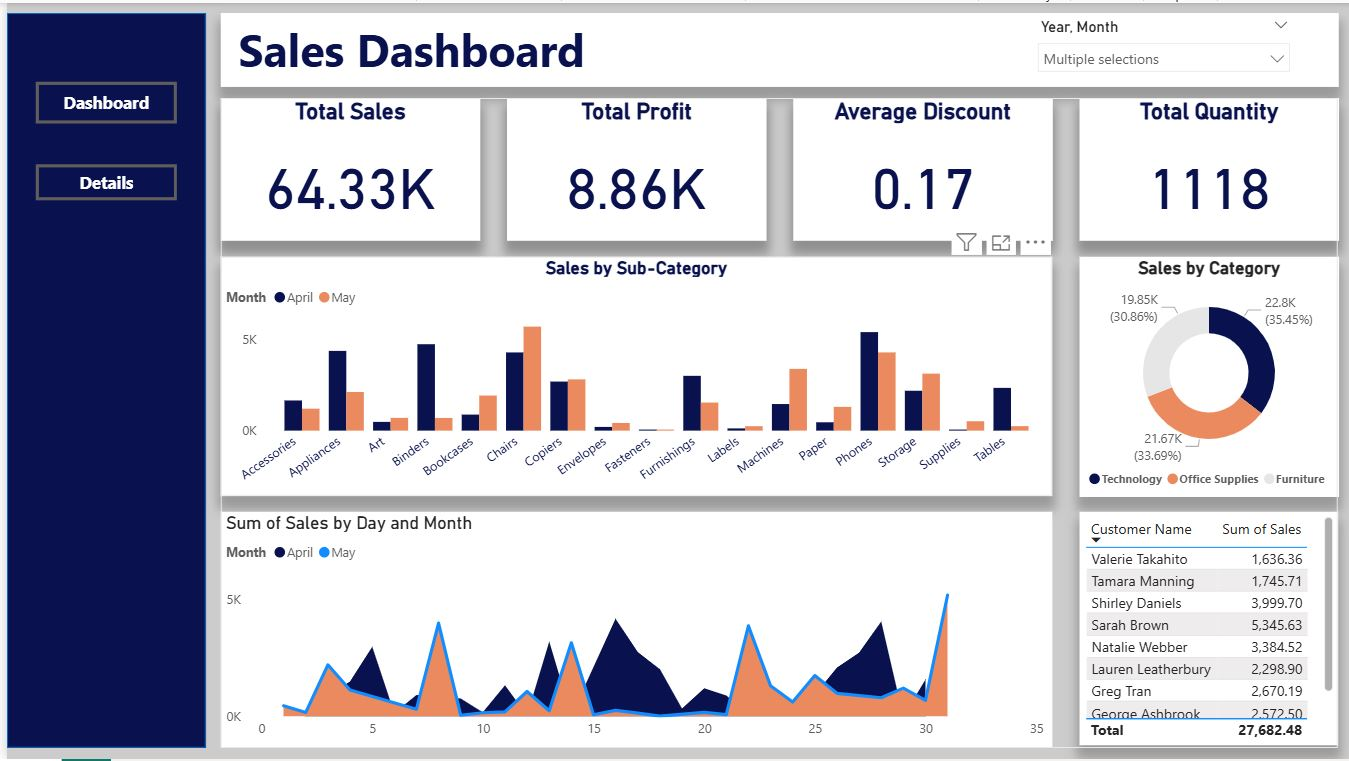

This screenshot's page, from the dashboard's own definition file:
{"tool":"powerbi","page":{"name":"Page 1","canvas":[1280,720],"ordinal":0},"visuals":[{"type":"shape","box":[0,9.6,189.4,699.8],"z":0},{"type":"card","title":"Total Sales","fields":{"Values":["Sum(Orders.Sales)"]},"box":[203.1,90.6,247,135.8],"z":0,"group":"g1"},{"type":"actionButton","box":[27.4,75.5,134.5,39.8],"z":1000},{"type":"card","title":"Total Profit","fields":{"Values":["Sum(Orders.Profit)"]},"box":[475.7,90.6,247,135.8],"z":1000,"group":"g1"},{"type":"card","title":"Average Discount","fields":{"Values":["Avg(Orders.Discount)"]},"box":[748.3,90.6,247,135.8],"z":2000,"group":"g1"},{"type":"actionButton","title":"Details","box":[27.5,153.9,134.6,34.3],"z":2000},{"type":"textbox","box":[203.3,9.6,1064.6,70.1],"z":3000},{"type":"card","title":"Total Quantity","fields":{"Values":["Sum(Orders.Quantity)"]},"box":[1020.9,90.6,247,135.8],"z":3000,"group":"g1"},{"type":"slicer","fields":{"Values":["Orders.Order month.Variation.Date Hierarchy.Year","Orders.Order month.Variation.Date Hierarchy.Month"]},"box":[971.5,9.6,260.7,70],"z":4000},{"type":"clusteredColumnChart","title":" Sales by Sub-Category","fields":{"Category":["Orders.Sub-Category"],"Y":["Sum(Orders.Sales)"],"Series":["Orders.Order month.Variation.Date Hierarchy.Month"]},"box":[203.1,241.5,791.8,227.8],"z":4000,"group":"g1"},{"type":"group","id":"g1","title":"Group 1","box":[203.1,90.6,1064.8,618.9],"z":5000},{"type":"areaChart","fields":{"Category":["Orders.Order month.Variation.Date Hierarchy.Day"],"Y":["Sum(Orders.Sales)"],"Series":["Orders.Order month.Variation.Date Hierarchy.Month"]},"box":[203.1,484.4,791.8,225],"z":5000,"group":"g1"},{"type":"donutChart","title":" Sales by Category","fields":{"Category":["Orders.Category"],"Y":["Sum(Orders.Sales)"]},"box":[1020.9,241.5,247,229.2],"z":6000,"group":"g1"},{"type":"tableEx","fields":{"Values":["Orders.Customer Name","Sum(Orders.Sales)"]},"box":[1020.9,485.2,246.4,222.6],"z":7000,"group":"g1"}]}

Visuals, with their boxes in screenshot pixels (x1, y1, x2, y2), scaled from the page's 1280x720 canvas onto the 1349x761 screenshot:
shape: <box>0,10,200,750</box>
"Total Sales" card: <box>214,96,474,239</box>
actionButton: <box>29,80,171,122</box>
"Total Profit" card: <box>501,96,762,239</box>
"Average Discount" card: <box>789,96,1049,239</box>
"Details" actionButton: <box>29,163,171,199</box>
textbox: <box>214,10,1336,84</box>
"Total Quantity" card: <box>1076,96,1336,239</box>
slicer - Orders.Order month.Variation.Date Hierarchy.Year x Orders.Order month.Variation.Date Hierarchy.Month: <box>1024,10,1299,84</box>
" Sales by Sub-Category" clusteredColumnChart: <box>214,255,1049,496</box>
"Group 1" group: <box>214,96,1336,750</box>
areaChart - Orders.Order month.Variation.Date Hierarchy.Day x Sum(Orders.Sales): <box>214,512,1049,750</box>
" Sales by Category" donutChart: <box>1076,255,1336,498</box>
tableEx - Orders.Customer Name x Sum(Orders.Sales): <box>1076,513,1336,748</box>
